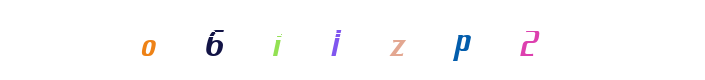1: (307, 0, 387, 80)
2: (489, 0, 569, 80)
6: (174, 0, 254, 80)
I: (278, 0, 358, 80)
O: (108, 0, 188, 80)
P: (411, 0, 491, 80)
Z: (312, 0, 392, 80)
